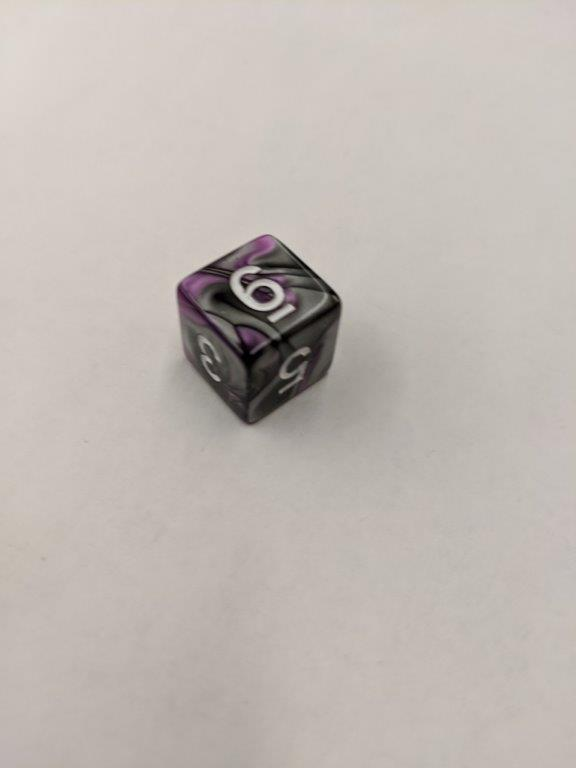d6-6: (177, 232, 344, 427)
